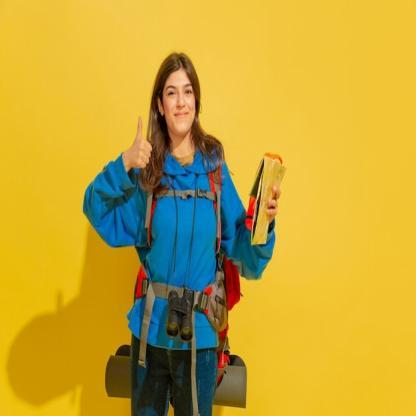thumb_up: (125, 112, 153, 172)
